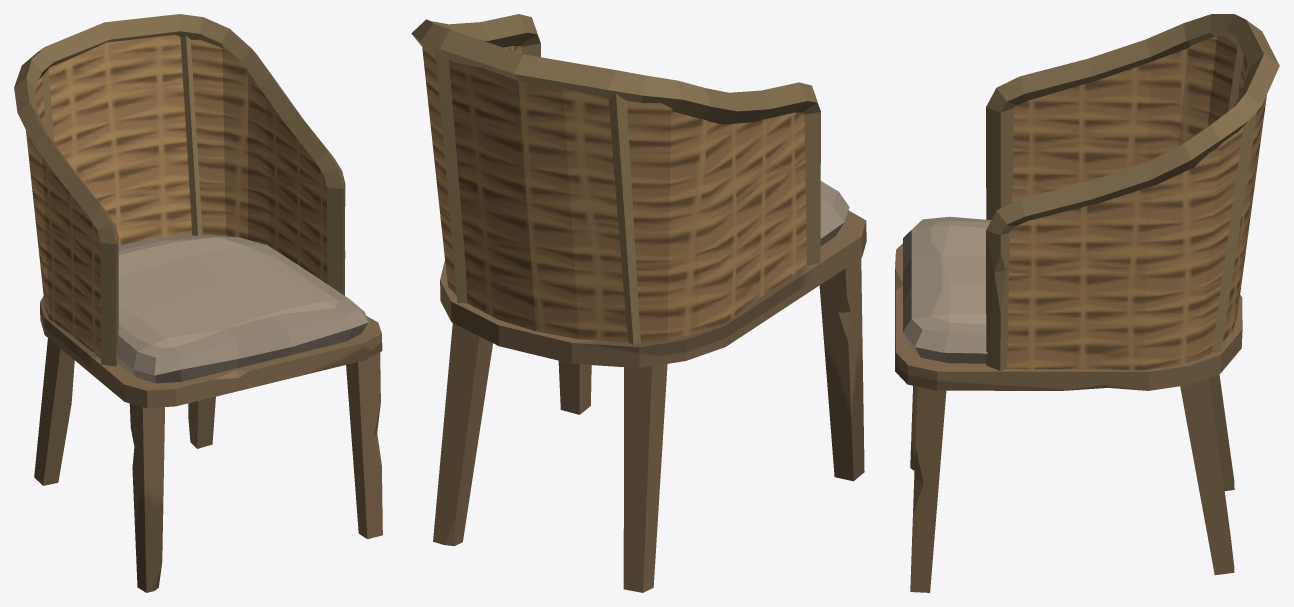
File: SM_Prop_Chair_01.glb
3 views of the same model, side by side, from view 1: azimuth 30°, elevation 25°; view 2: azimuth 150°, elevation 25°; view 3: azimuth 270°, elevation 25° (orthographic). The views are drawn at different scales.
Parts seen in each view (by area): view 1: SM_Prop_Chair_01; view 2: SM_Prop_Chair_01; view 3: SM_Prop_Chair_01.
Part boxes in pixels (x1,y1,x2,y2): SM_Prop_Chair_01: (14, 14, 382, 592); SM_Prop_Chair_01: (411, 14, 866, 592); SM_Prop_Chair_01: (895, 14, 1279, 592).
Bounding box in the file's own units: 0.5318 × 0.8555 × 0.6272.
1 material, 1 textured.
